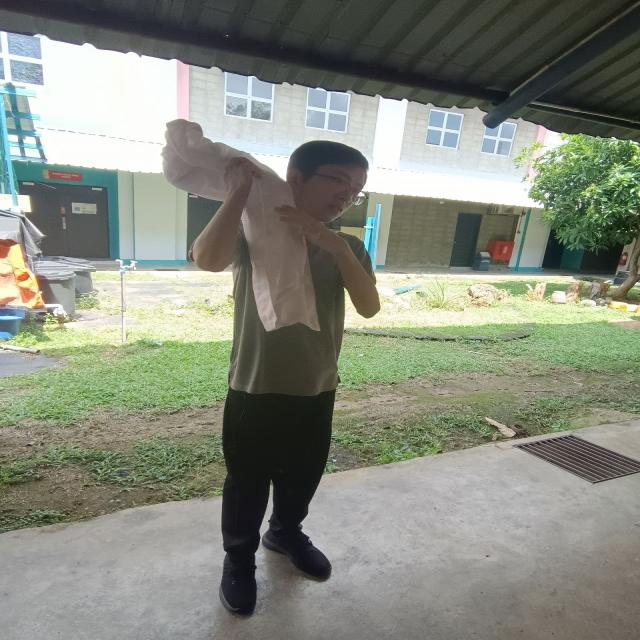person_without_labcoat: (162, 120, 379, 614)
